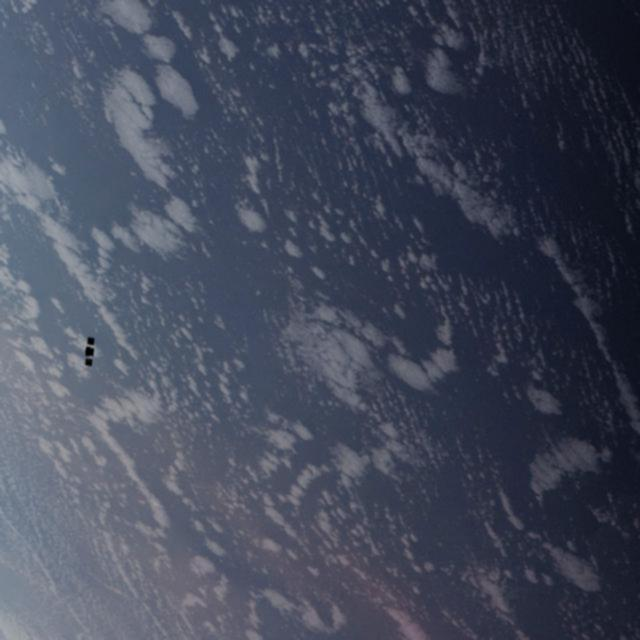satellite: (79, 328, 105, 374)
